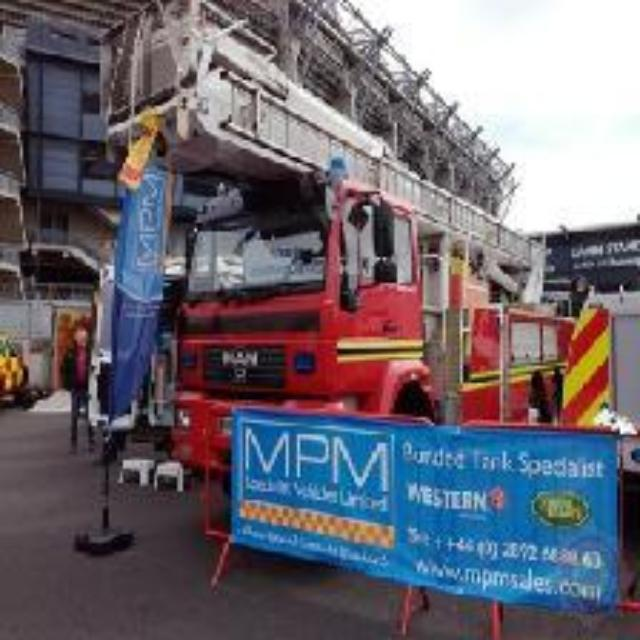emergency: (116, 27, 582, 481)
